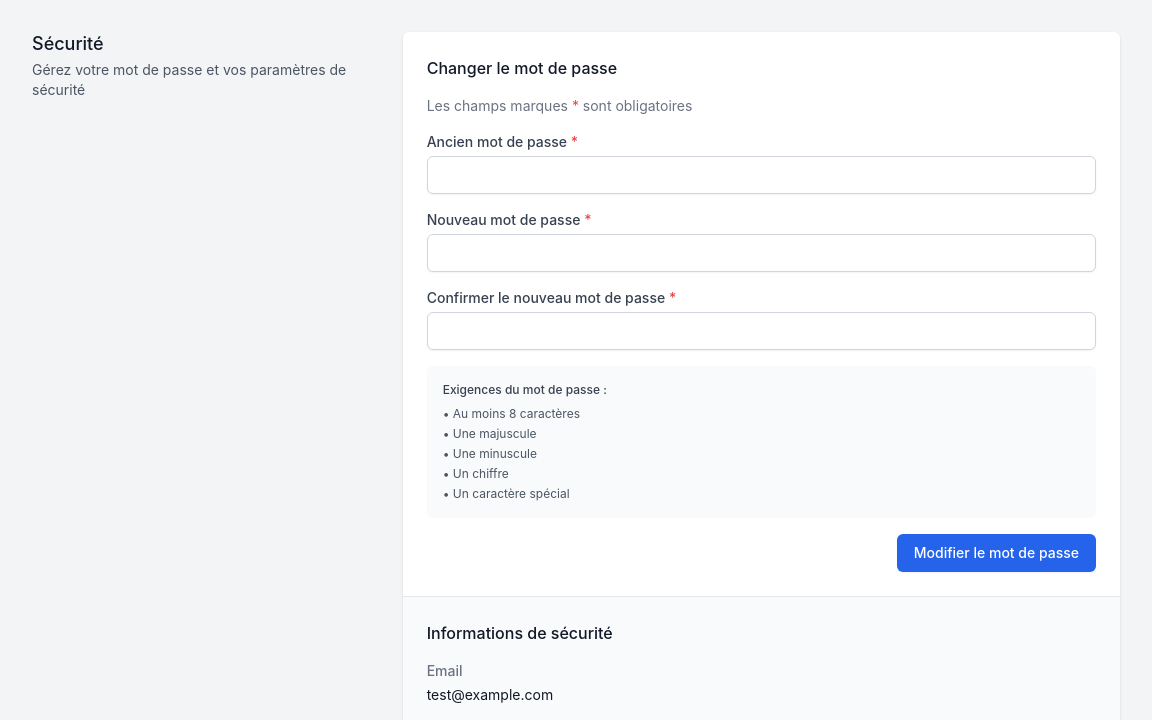
Test: SecuritySettingsPage › should validate password matching
This screenshot has width=1152, height=720.
Type "OldPassword123!" into the password field labelled "Ancien mot de passe *" at {"x": 761, "y": 175}, box x1=427 y1=156 x2=1096 y2=194
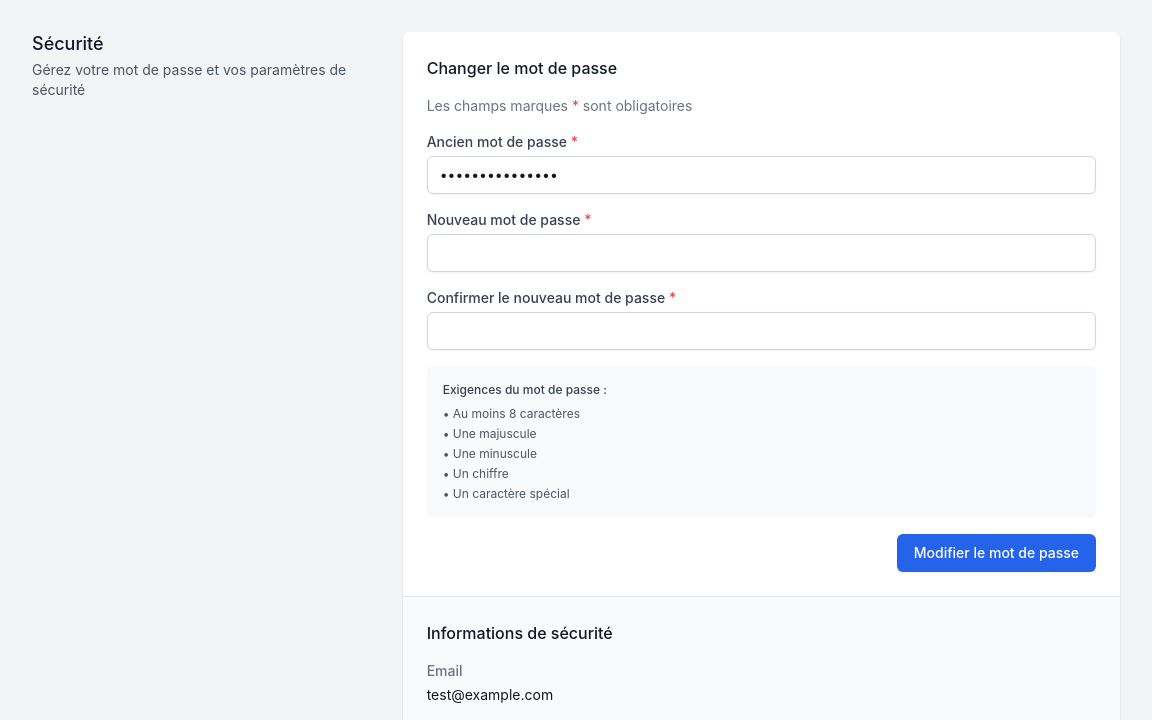
Type "NewPassword123!" into the password field labelled "Nouveau mot de passe *" at {"x": 761, "y": 253}, box x1=427 y1=234 x2=1096 y2=272
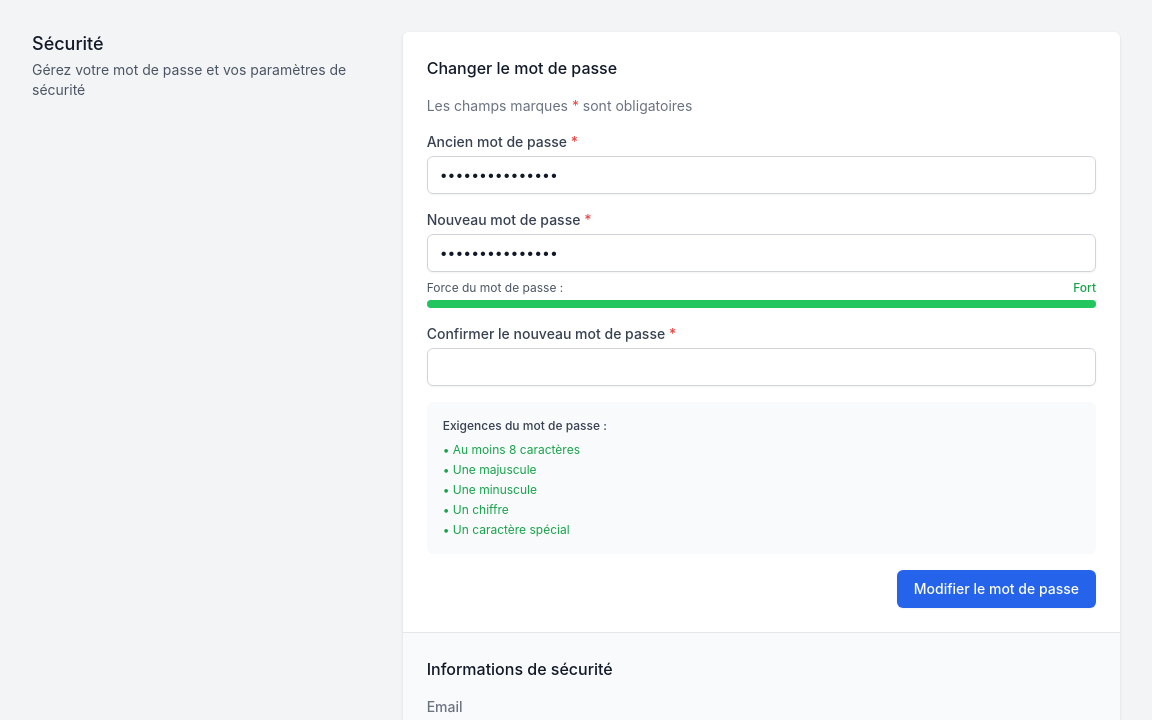
Type "DifferentPassword123!" into the password field labelled "Confirmer le nouveau mot de passe *" at {"x": 761, "y": 367}, box x1=427 y1=348 x2=1096 y2=386
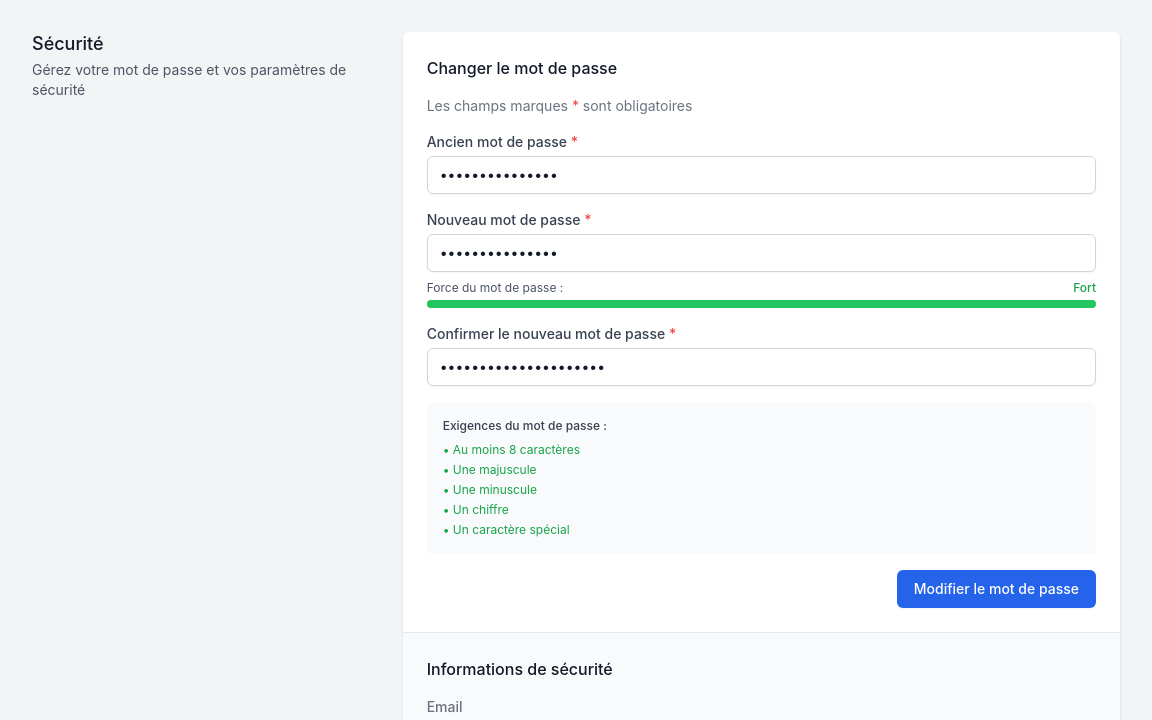
Click the button "Modifier le mot de passe" at {"x": 996, "y": 589}, box x1=897 y1=570 x2=1096 y2=608
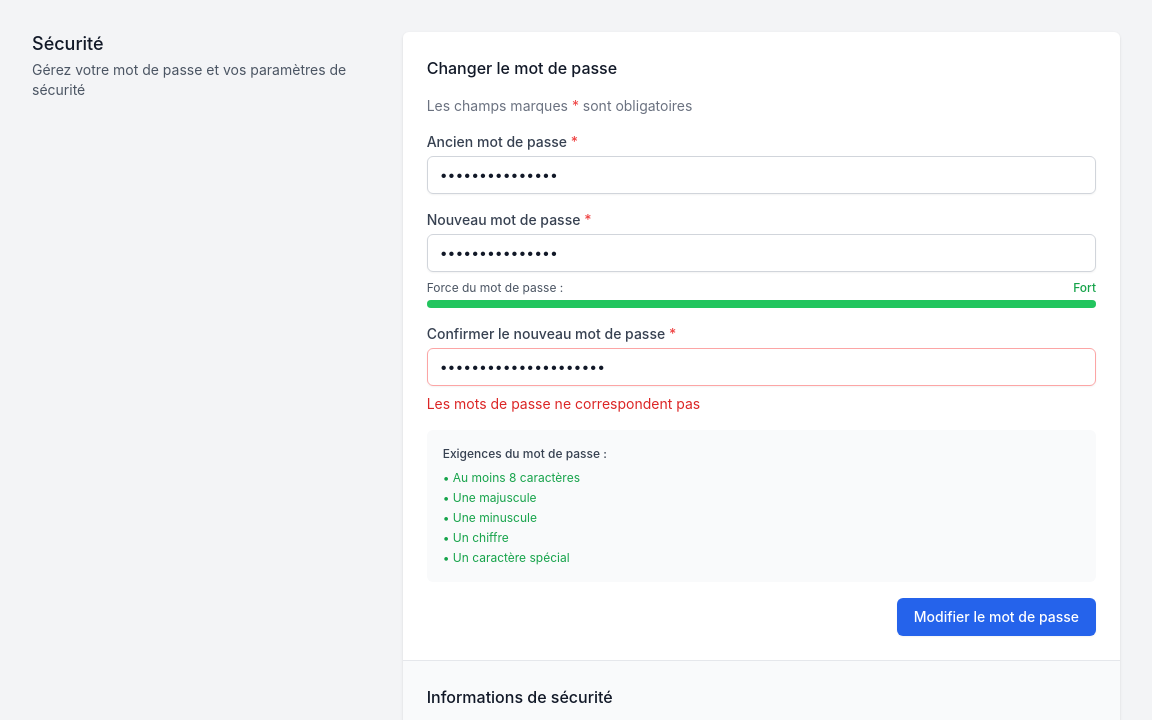
Now the text "Les mots de passe ne correspondent pas" is shown, box x1=427 y1=395 x2=700 y2=412
